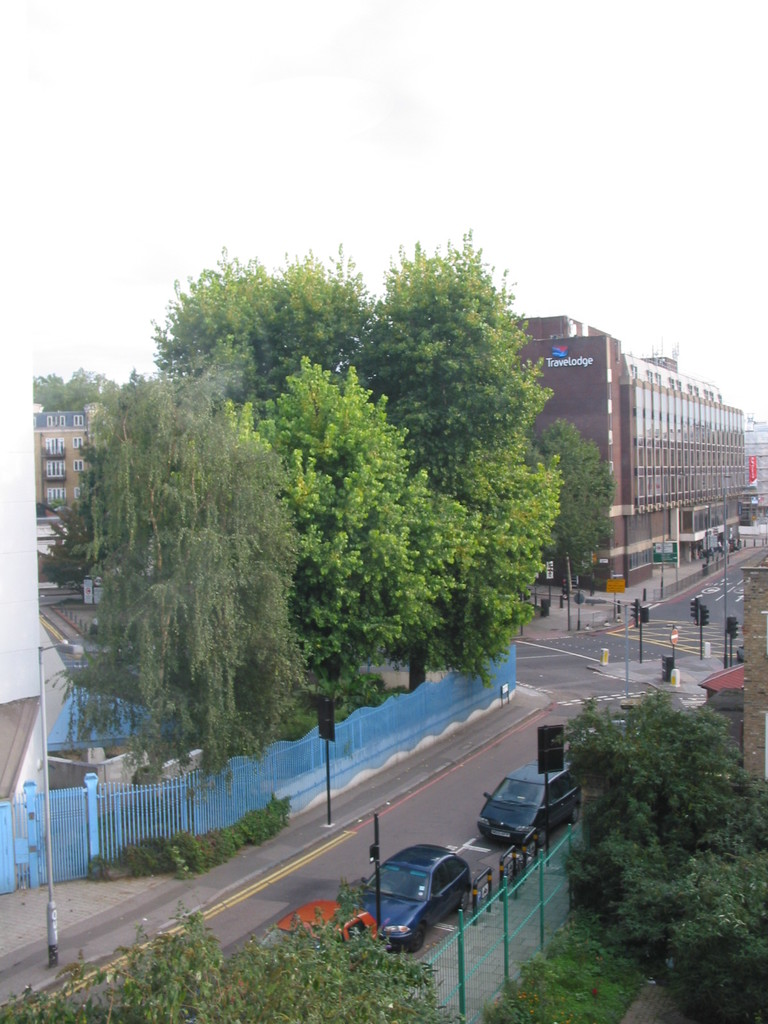Car: (220, 896, 379, 1002), (354, 840, 503, 935), (478, 763, 583, 847)
